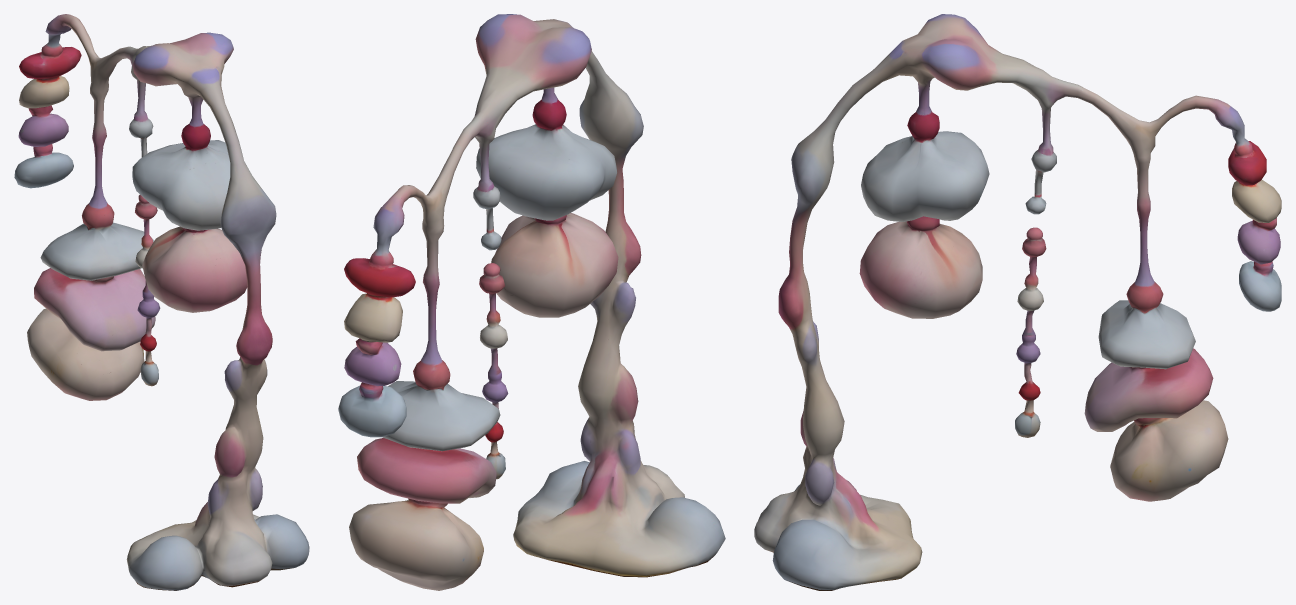
The model's file is 9ac99f50-da8f-48c2-8ced-03f9b713498e.glb.
3 views of the same model, side by side, from view 1: azimuth 30°, elevation 25°; view 2: azimuth 150°, elevation 25°; view 3: azimuth 270°, elevation 25° (orthographic). The views are drawn at different scales.
Visible parts, largest first — view 1: tripo_node_d100f01e-d777-4e51-8862-002a2bd419a7; view 2: tripo_node_d100f01e-d777-4e51-8862-002a2bd419a7; view 3: tripo_node_d100f01e-d777-4e51-8862-002a2bd419a7.
Boxes of the visible parts, x1,y1,x2,y2 form: tripo_node_d100f01e-d777-4e51-8862-002a2bd419a7: (14,14,309,590); tripo_node_d100f01e-d777-4e51-8862-002a2bd419a7: (338,14,725,590); tripo_node_d100f01e-d777-4e51-8862-002a2bd419a7: (754,14,1281,590).
Size of the model in its own units: 0.3542 by 0.9961 by 0.8904.
1 material, 1 textured.
